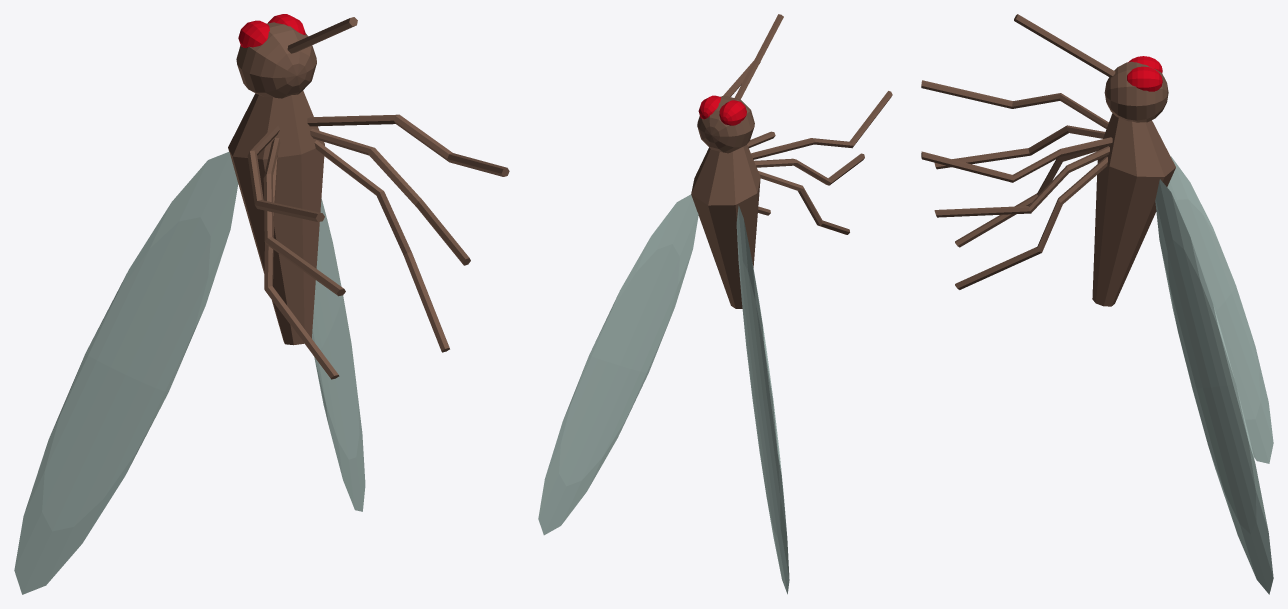
Rendered from Mosquito.fbx.
3 renders of one model, left to right at view 1: azimuth 30°, elevation 25°; view 2: azimuth 150°, elevation 25°; view 3: azimuth 270°, elevation 25°, orthographic. The views are drawn at different scales.
Parts seen in each view (by area): view 1: Sphere.004; view 2: Sphere.004; view 3: Sphere.004.
Part boxes in pixels (x1,y1,x2,y2): Sphere.004: (14,14,509,594); Sphere.004: (538,14,892,594); Sphere.004: (921,14,1273,594).
Size of the model in its own units: 0.3997 by 0.7102 by 0.4406.
